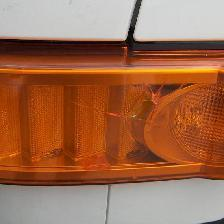tail_lamp: (5, 38, 224, 183)
